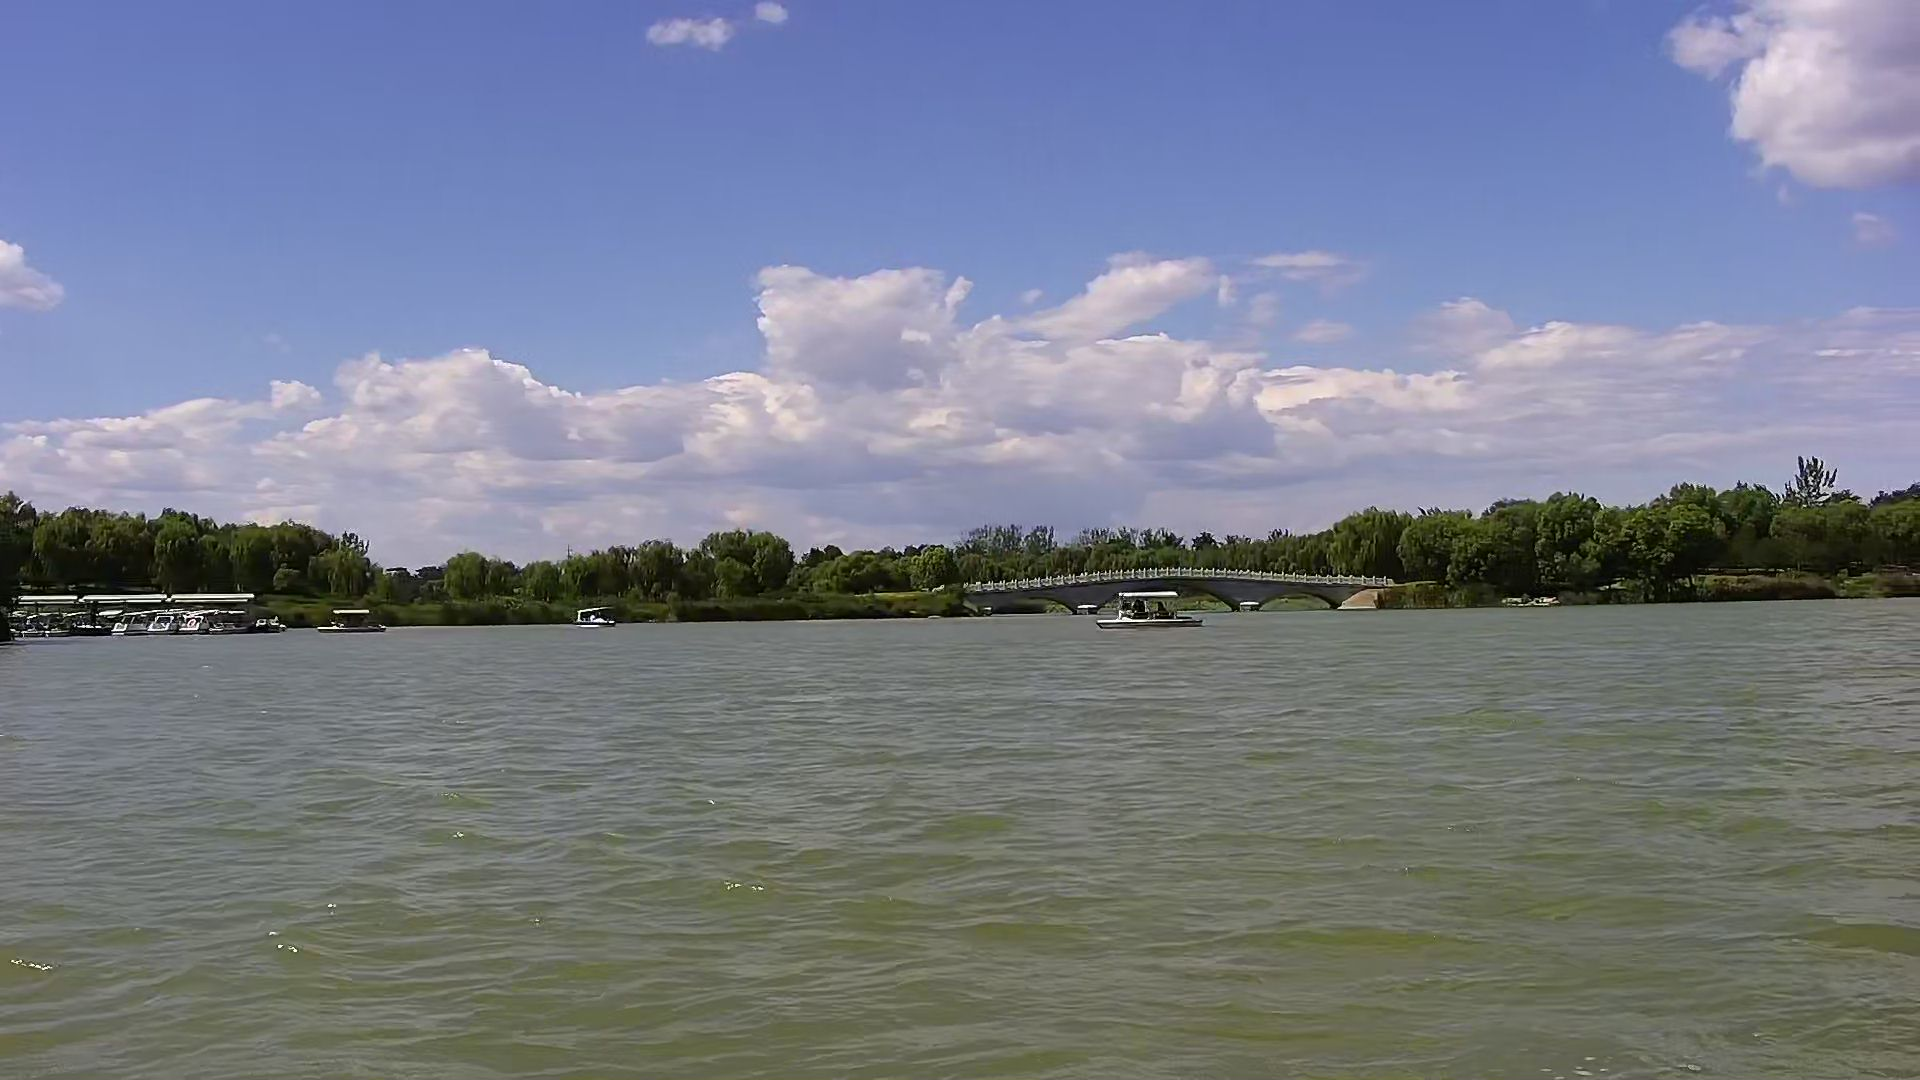boat: (1091, 592, 1209, 630), (316, 603, 401, 637), (571, 604, 617, 630)
bridge: (973, 564, 1373, 612)
